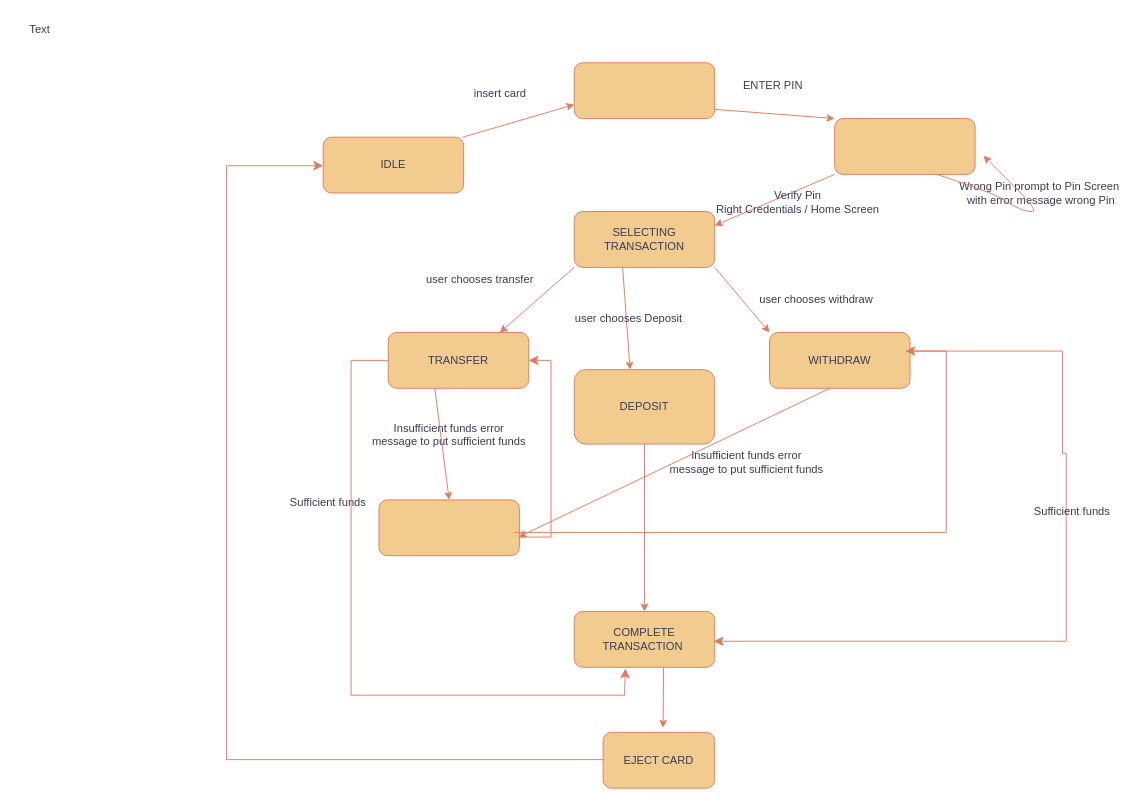
Some shapes in this 1148 by 804 pixel diagram are drawn without their labels. Here are the shapes that lost their labels. From the top down, the box of each, then its label:
(573, 62, 715, 119): WAITING PIN STATE
(834, 118, 975, 174): PIN READING STATE
(378, 499, 519, 556): INSUFFIECIENT FUNDS
